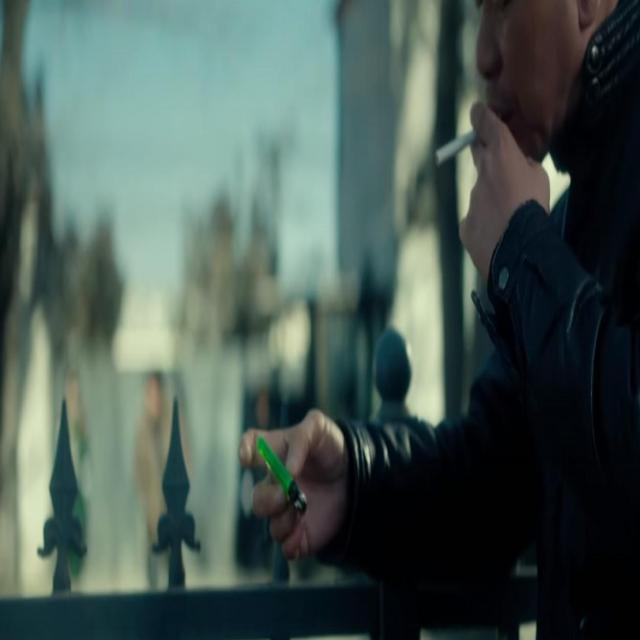cigarette: (433, 122, 480, 172)
